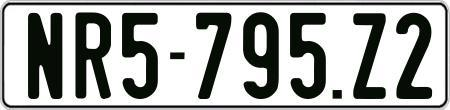2: (394, 10, 430, 97)
5: (120, 13, 161, 104), (288, 11, 326, 101)
7: (194, 12, 229, 103)
9: (242, 9, 280, 96)
N: (25, 10, 61, 96)
R: (76, 12, 117, 103)
Z: (351, 12, 385, 103)
